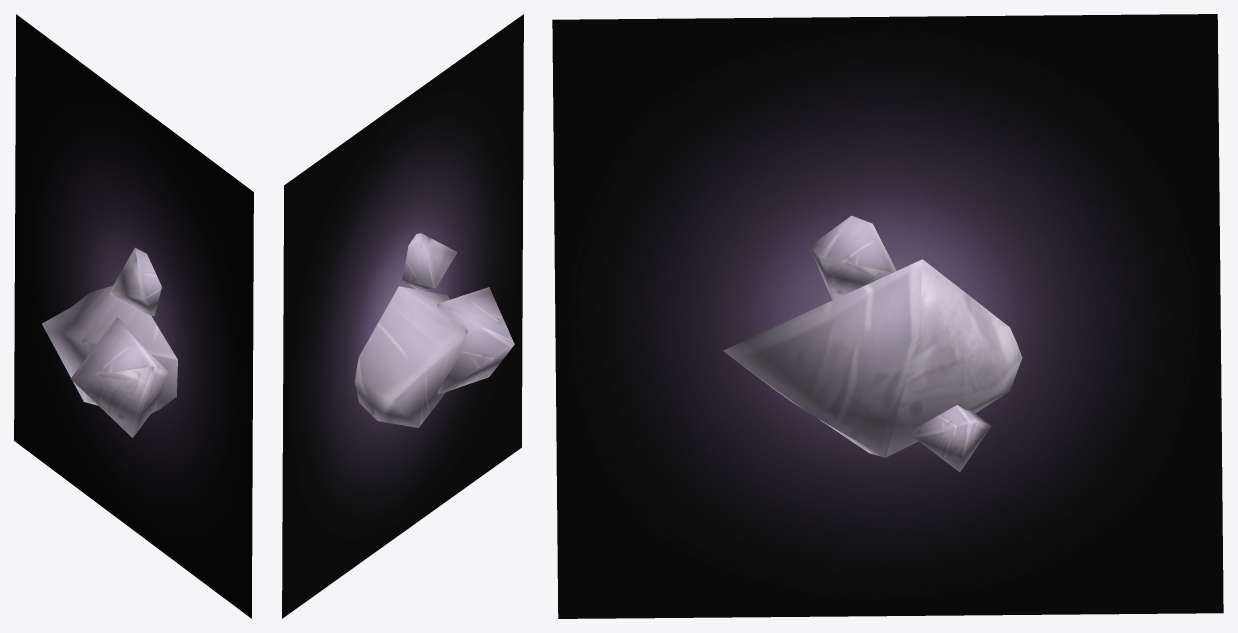
File: deepholm_mineralcrystal01_silver.obj
3 renders of one model, left to right at view 1: azimuth 30°, elevation 25°; view 2: azimuth 150°, elevation 25°; view 3: azimuth 270°, elevation 25°, orthographic. The views are drawn at different scales.
Parts seen in each view (by area): view 1: Geoset1, Geoset0; view 2: Geoset1, Geoset0; view 3: Geoset1, Geoset0.
Part boxes in pixels (left/top/right/bottom): Geoset1: left=14, top=14, right=253, bottom=618; Geoset0: left=42, top=247, right=177, bottom=437; Geoset1: left=282, top=14, right=523, bottom=618; Geoset0: left=354, top=233, right=514, bottom=427; Geoset1: left=552, top=14, right=1223, bottom=618; Geoset0: left=723, top=215, right=1022, bottom=471.
Bounding box in the file's own units: 1.35 × 3.51 × 3.53.
Materials: 2 (2 with a texture image).
